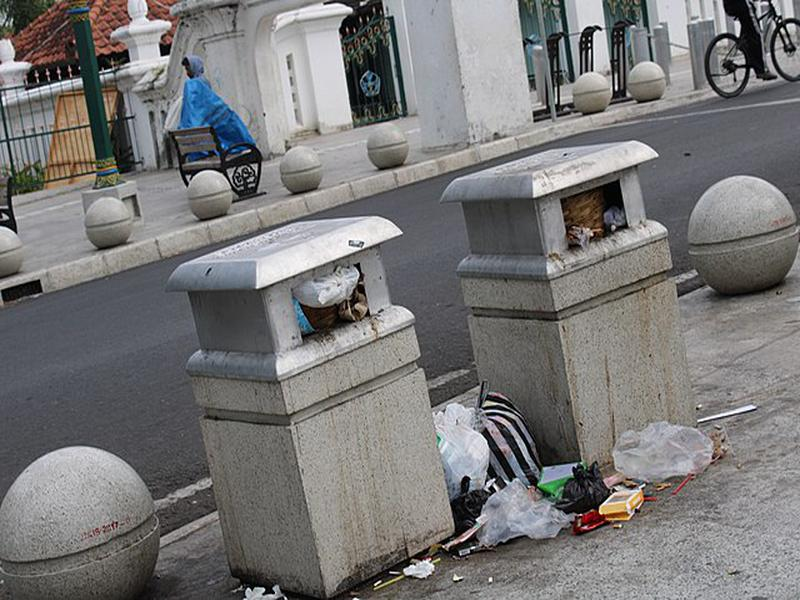plastic: (469, 376, 545, 488), (607, 414, 722, 484), (477, 478, 577, 548), (427, 399, 494, 494), (293, 264, 367, 311), (555, 459, 614, 514)
